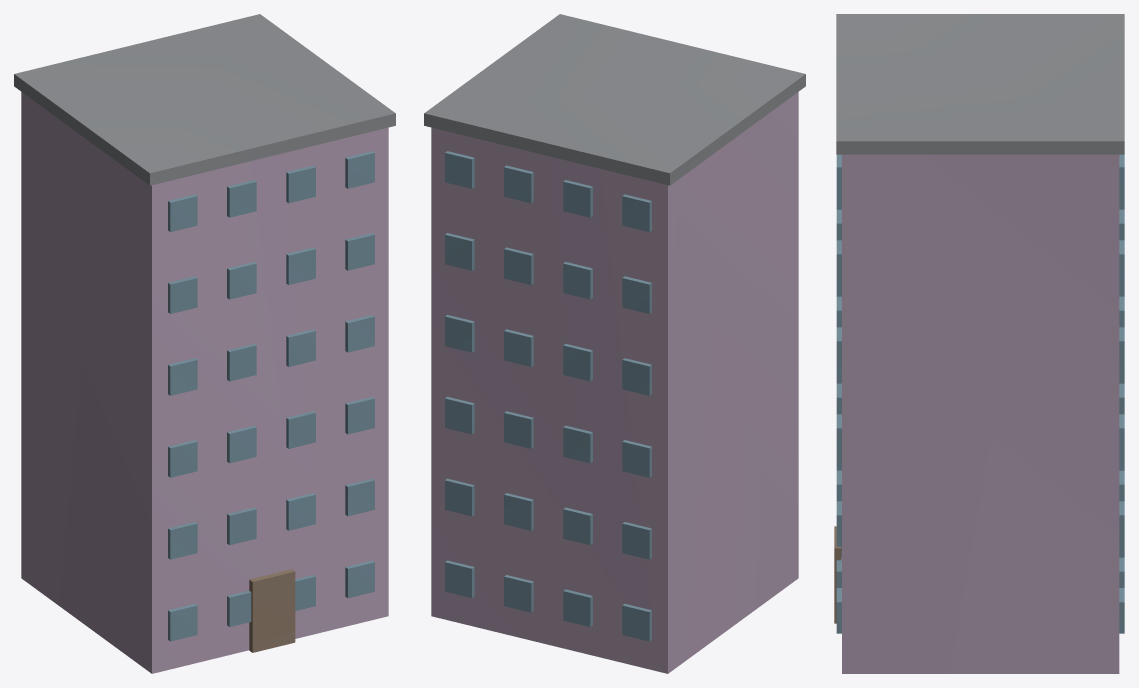
Rendered from apartment-02.glb.
The picture shows the model from 3 angles, left to right: view 1: azimuth 30°, elevation 25°; view 2: azimuth 150°, elevation 25°; view 3: azimuth 270°, elevation 25°; orthographic projection. The views are drawn at different scales.
Parts seen in each view (by area): view 1: world; view 2: world; view 3: world.
Boxes of the visible parts, <box> form: world: <box>14,14,395,673</box>; world: <box>424,14,805,673</box>; world: <box>834,14,1124,673</box>.
Size of the model in its own units: 1.45 by 2.84 by 1.4.
